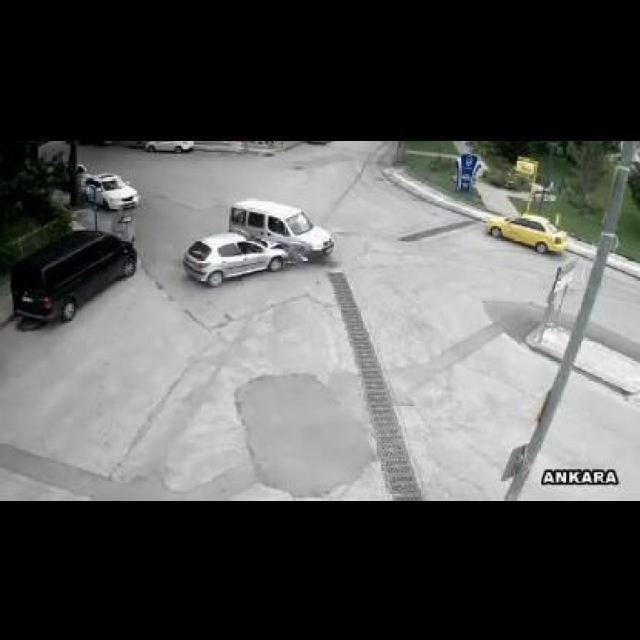accident: (178, 195, 332, 288)
